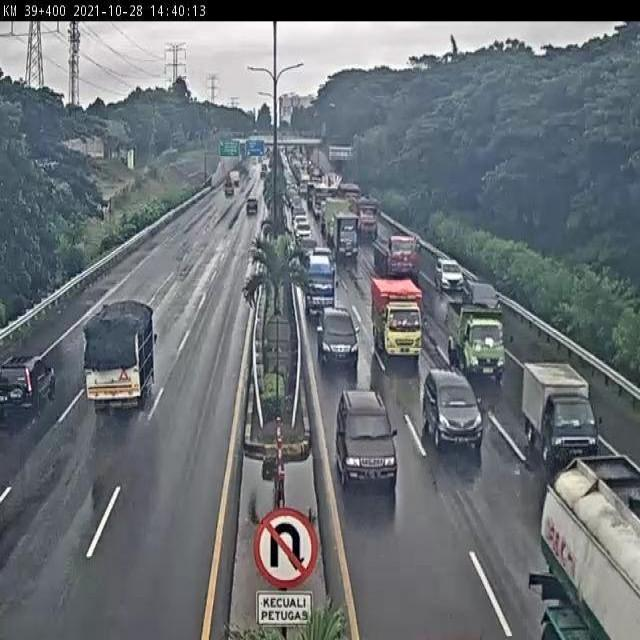bus-s-: (302, 252, 337, 319)
car: (334, 387, 400, 492), (421, 368, 485, 453), (0, 353, 58, 420), (317, 306, 363, 374), (434, 256, 467, 292), (298, 236, 320, 264), (315, 244, 335, 269)
small truck: (82, 292, 156, 408)
truck-m-: (446, 305, 510, 387), (371, 276, 423, 357), (463, 279, 503, 317), (333, 209, 360, 260)
truck-s-: (520, 360, 599, 467)
truck-xl-: (373, 229, 421, 280)
